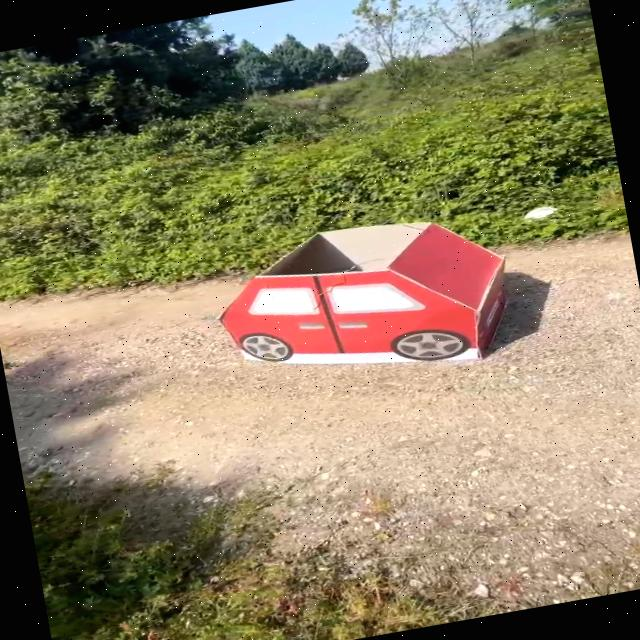red_car: (199, 196, 536, 414)
